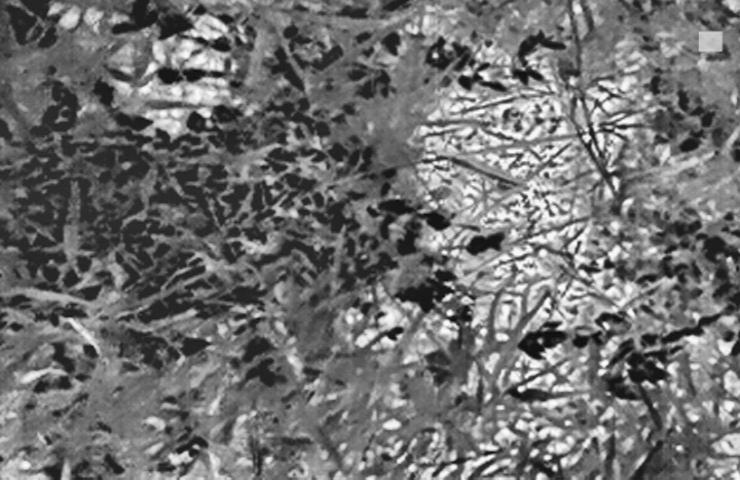landmines: (389, 40, 674, 351)
